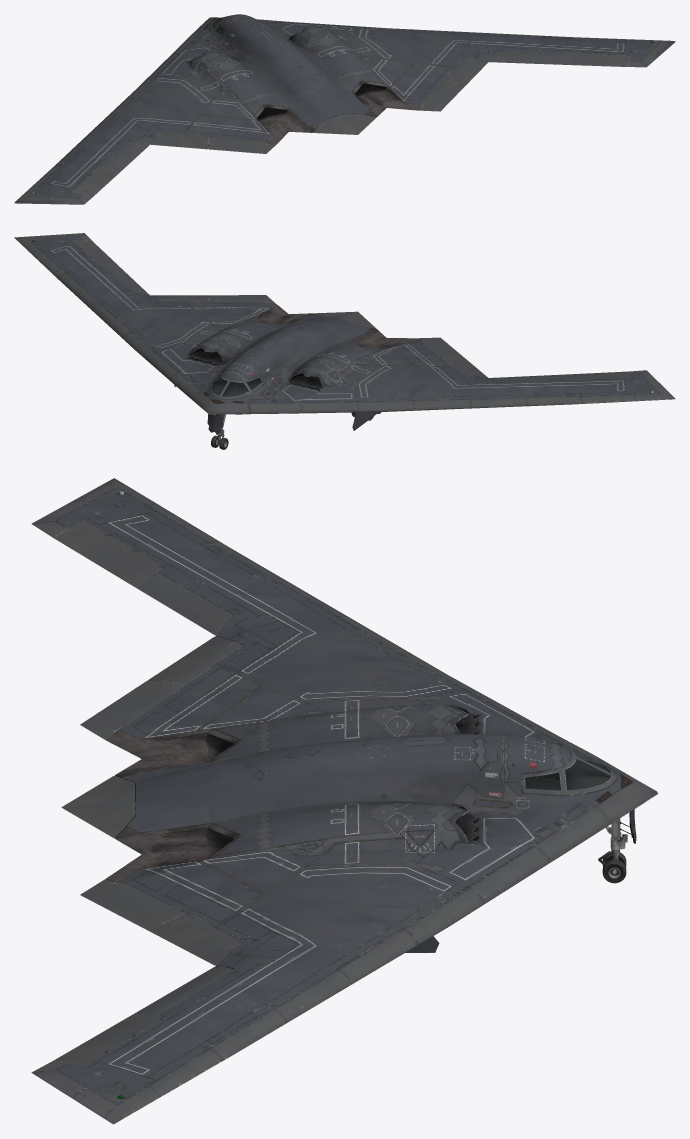
File: jet_b2.glb
3 views of the same model, one above another, from view 1: azimuth 30°, elevation 25°; view 2: azimuth 150°, elevation 25°; view 3: azimuth 270°, elevation 25° (orthographic). The views are drawn at different scales.
Visible parts, largest first — view 1: SK_West_Bomber_B2_LOD0_25_53, SK_West_Bomber_B2_LOD0.002_23_49, SK_West_Bomber_B2_LOD0.003_22_47, SK_West_Bomber_B2_LOD0.018_7_17, SK_West_Bomber_B2_LOD0.001_24_51, SK_West_Bomber_B2_LOD0.006_19_41, SK_West_Bomber_B2_LOD0.004_21_45, SK_West_Bomber_B2_LOD0.005_20_43; view 2: SK_West_Bomber_B2_LOD0_25_53, SK_West_Bomber_B2_LOD0.002_23_49, SK_West_Bomber_B2_LOD0.003_22_47, SK_West_Bomber_B2_LOD0.018_7_17, SK_West_Bomber_B2_LOD0.001_24_51, SK_West_Bomber_B2_LOD0.006_19_41, SK_West_Bomber_B2_LOD0.007_18_39, SK_West_Bomber_B2_LOD0.004_21_45, SK_West_Bomber_B2_LOD0.009_16_35; view 3: SK_West_Bomber_B2_LOD0_25_53, SK_West_Bomber_B2_LOD0.002_23_49, SK_West_Bomber_B2_LOD0.003_22_47, SK_West_Bomber_B2_LOD0.001_24_51, SK_West_Bomber_B2_LOD0.018_7_17, SK_West_Bomber_B2_LOD0.004_21_45, SK_West_Bomber_B2_LOD0.005_20_43, SK_West_Bomber_B2_LOD0.006_19_41, SK_West_Bomber_B2_LOD0.007_18_39, SK_West_Bomber_B2_LOD0.021_4_11.
Boxes of the visible parts, <box> form: SK_West_Bomber_B2_LOD0_25_53: <box>150,14,653,153</box>; SK_West_Bomber_B2_LOD0.002_23_49: <box>57,50,260,165</box>; SK_West_Bomber_B2_LOD0.003_22_47: <box>14,37,675,204</box>; SK_West_Bomber_B2_LOD0.018_7_17: <box>185,50,288,118</box>; SK_West_Bomber_B2_LOD0.001_24_51: <box>289,26,386,93</box>; SK_West_Bomber_B2_LOD0.006_19_41: <box>557,51,632,66</box>; SK_West_Bomber_B2_LOD0.004_21_45: <box>72,164,121,197</box>; SK_West_Bomber_B2_LOD0.005_20_43: <box>107,140,149,170</box>; SK_West_Bomber_B2_LOD0_25_53: <box>32,240,487,433</box>; SK_West_Bomber_B2_LOD0.002_23_49: <box>289,342,575,412</box>; SK_West_Bomber_B2_LOD0.003_22_47: <box>14,233,675,403</box>; SK_West_Bomber_B2_LOD0.018_7_17: <box>291,339,386,391</box>; SK_West_Bomber_B2_LOD0.001_24_51: <box>186,316,288,364</box>; SK_West_Bomber_B2_LOD0.006_19_41: <box>72,240,121,268</box>; SK_West_Bomber_B2_LOD0.007_18_39: <box>212,374,261,396</box>; SK_West_Bomber_B2_LOD0.004_21_45: <box>557,371,632,379</box>; SK_West_Bomber_B2_LOD0.009_16_35: <box>290,404,575,413</box>; SK_West_Bomber_B2_LOD0_25_53: <box>61,636,658,1098</box>; SK_West_Bomber_B2_LOD0.002_23_49: <box>127,546,554,734</box>; SK_West_Bomber_B2_LOD0.003_22_47: <box>31,478,229,1124</box>; SK_West_Bomber_B2_LOD0.001_24_51: <box>208,801,480,858</box>; SK_West_Bomber_B2_LOD0.018_7_17: <box>208,704,468,762</box>; SK_West_Bomber_B2_LOD0.004_21_45: <box>53,519,166,587</box>; SK_West_Bomber_B2_LOD0.005_20_43: <box>136,572,234,635</box>; SK_West_Bomber_B2_LOD0.006_19_41: <box>53,1013,166,1067</box>; SK_West_Bomber_B2_LOD0.007_18_39: <box>525,752,610,789</box>; SK_West_Bomber_B2_LOD0.021_4_11: <box>598,818,627,883</box>.
Size of what is drawn, in the model's own units: 110 by 11.08 by 45.25.
Materials: 6 (6 with a texture image).
